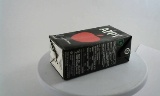appy: (43, 25, 124, 80)
